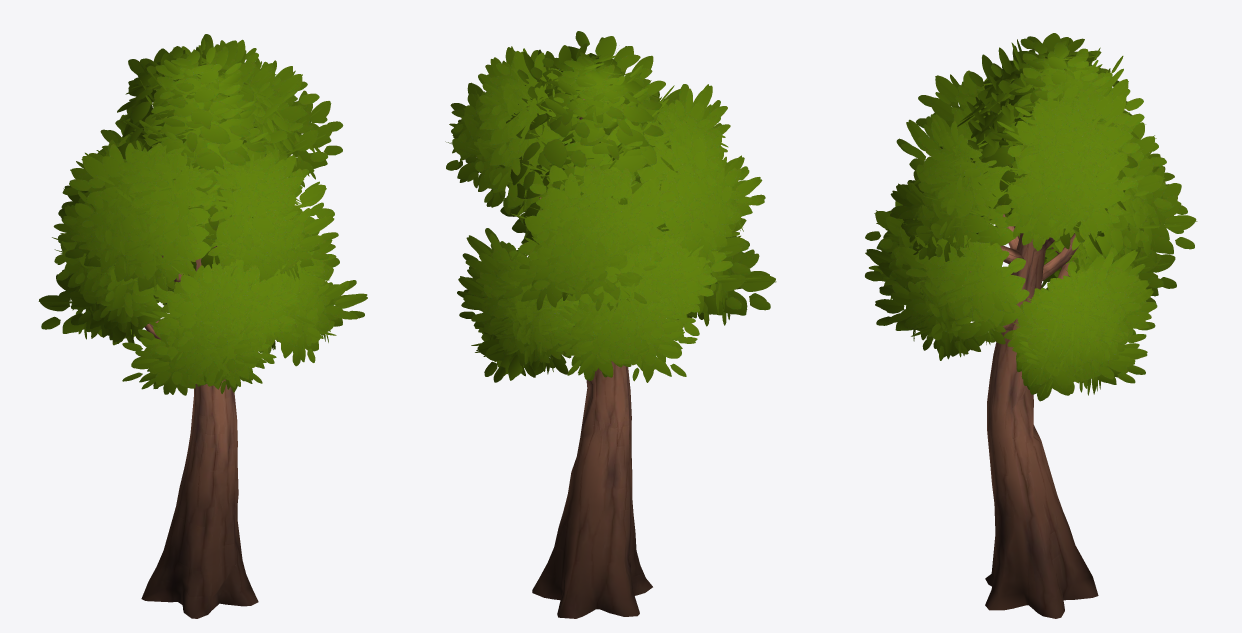
Rendered from CommonTree_1_LOD.glb.
The picture shows the model from 3 angles, left to right: view 1: azimuth 30°, elevation 25°; view 2: azimuth 150°, elevation 25°; view 3: azimuth 270°, elevation 25°; orthographic projection. The views are drawn at different scales.
Parts seen in each view (by area): view 1: CommonTree_1; view 2: CommonTree_1; view 3: CommonTree_1.
Boxes of the visible parts, <box> form: CommonTree_1: <box>38,34,367,618</box>; CommonTree_1: <box>445,31,776,618</box>; CommonTree_1: <box>865,33,1197,618</box>.
Bounding box in the file's own units: 4.31 × 7.26 × 4.58.
Materials: 2 (2 with a texture image).
